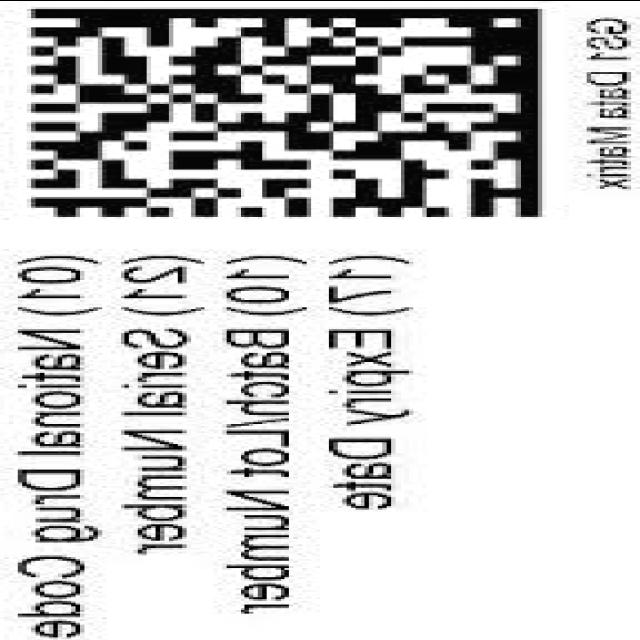DataMatrix: (18, 3, 564, 230)
